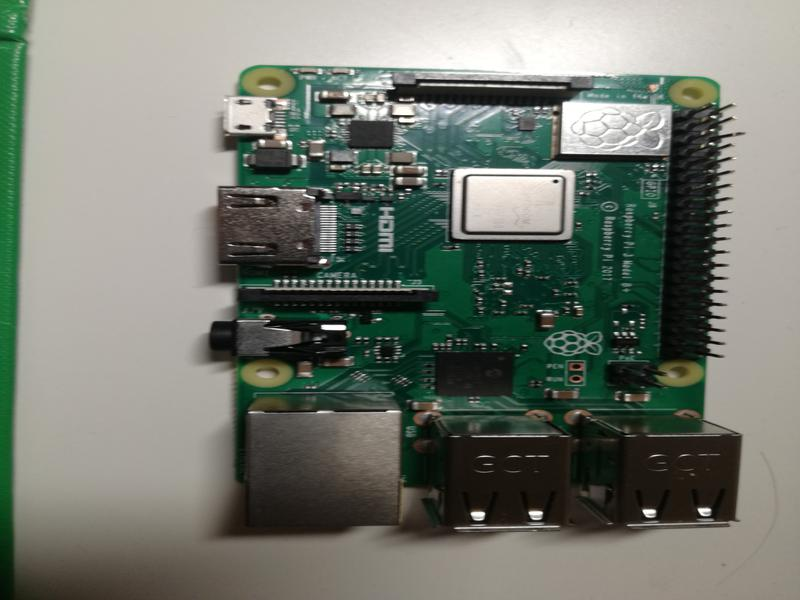Raspberry_Pi_3: (205, 56, 749, 548)
